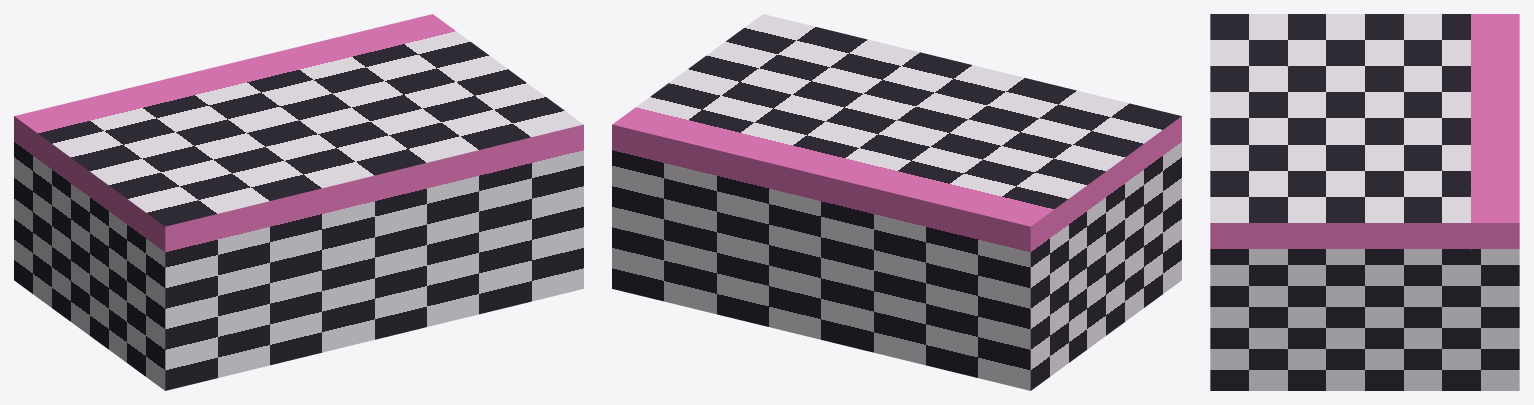
File: kart.gltf
3 renders of one model, left to right at view 1: azimuth 30°, elevation 25°; view 2: azimuth 150°, elevation 25°; view 3: azimuth 270°, elevation 25°, orthographic. The views are drawn at different scales.
Visible parts, largest first — view 1: kart-body; view 2: kart-body; view 3: kart-body.
Part boxes in pixels (x1,y1,x2,y2): kart-body: (14,14,583,390); kart-body: (612,14,1181,390); kart-body: (1210,14,1519,390).
Size of the model in its own units: 1.6 by 0.6 by 1.
Materials: 1 (1 with a texture image).
